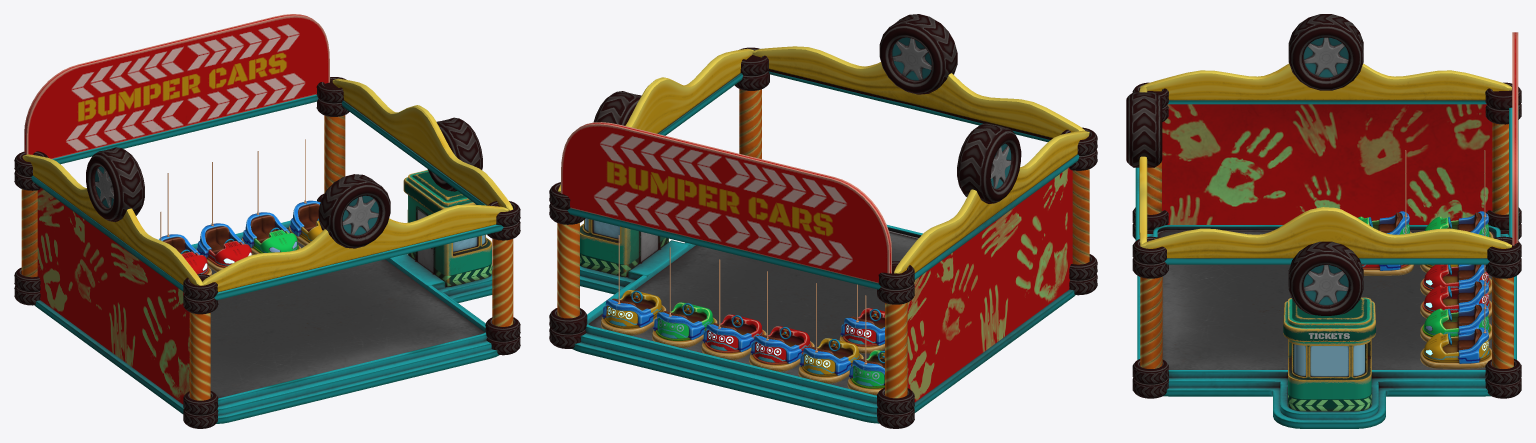
Rendered from lunapark_-_bumper_cars.glb.
The picture shows the model from 3 angles, left to right: view 1: azimuth 30°, elevation 25°; view 2: azimuth 150°, elevation 25°; view 3: azimuth 270°, elevation 25°; orthographic projection. The views are drawn at different scales.
Parts seen in each view (by area): view 1: area_low, Sign_low, Sign2_low, wave_low, wave_low.002, column_low, frame_low, kassa_low, tyre_low, tyre_low.001, tyre_low.005, tyre_low.004 (+9 smaller); view 2: Sign_low, area_low, Sign2_low, wave_low, wave_low.002, column_low, frame_low, tyre_low, tyre_low.001, kassa_low, tyre_low.005, tyre_low.004 (+17 smaller); view 3: Sign2_low, area_low, wave_low, kassa_low, column_low, frame_low, tyre_low.001, tyre_low.002, tyre_low, tyre_low.005, tyre_low.004, tyre_low.006 (+16 smaller).
Boxes of the visible parts, <box> form: area_low: <box>35,220,499,423</box>; Sign_low: <box>24,14,329,158</box>; Sign2_low: <box>37,188,189,404</box>; wave_low: <box>22,78,512,285</box>; wave_low.002: <box>202,204,509,292</box>; column_low: <box>21,115,513,400</box>; frame_low: <box>31,94,503,300</box>; kassa_low: <box>403,170,491,286</box>; tyre_low: <box>318,174,390,248</box>; tyre_low.001: <box>86,147,144,221</box>; tyre_low.005: <box>14,77,520,300</box>; tyre_low.004: <box>14,194,520,415</box>; Sign_low: <box>561,122,891,283</box>; area_low: <box>572,225,1075,423</box>; Sign2_low: <box>907,167,1072,402</box>; wave_low: <box>558,48,1089,273</box>; wave_low.002: <box>752,46,1084,139</box>; column_low: <box>557,89,1089,398</box>; frame_low: <box>567,71,1079,289</box>; tyre_low: <box>879,14,957,94</box>; tyre_low.001: <box>957,123,1021,203</box>; kassa_low: <box>580,219,668,277</box>; tyre_low.005: <box>549,47,1097,289</box>; tyre_low.004: <box>549,254,1097,414</box>; Sign2_low: <box>1162,104,1492,224</box>; area_low: <box>1137,225,1516,428</box>; wave_low: <box>1140,63,1511,258</box>; kassa_low: <box>1283,297,1375,411</box>; column_low: <box>1140,122,1513,368</box>; frame_low: <box>1135,100,1518,264</box>; tyre_low.001: <box>1288,14,1363,90</box>; tyre_low.002: <box>1288,241,1363,315</box>; tyre_low: <box>1126,92,1162,167</box>; tyre_low.005: <box>1132,82,1521,264</box>; tyre_low.004: <box>1132,207,1521,384</box>; tyre_low.006: <box>1132,104,1521,278</box>.
Bounding box in the file's own units: 18.64 × 9.91 × 15.66.
Materials: 4 (4 with a texture image).
